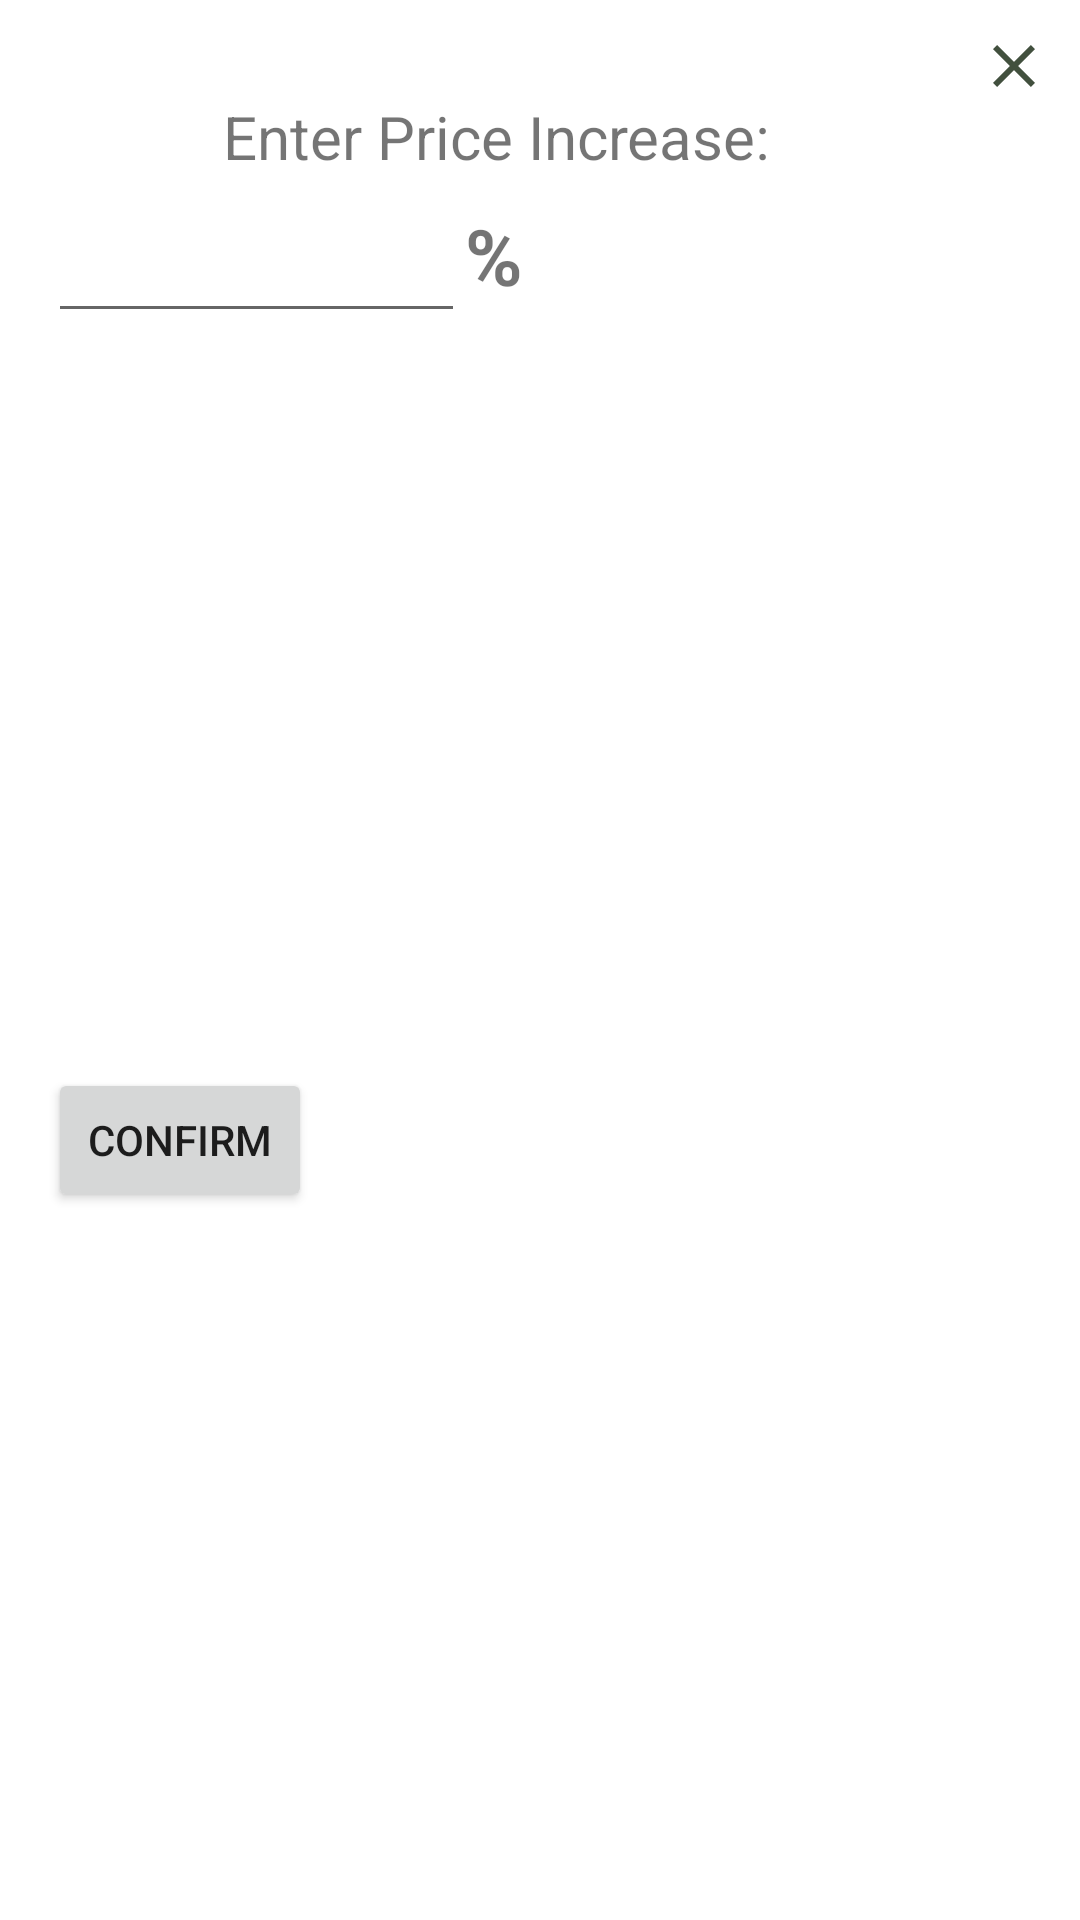

Where to tap for icons on this 1080*1920 app screen, as [x,y]:
close: [1014,66]
